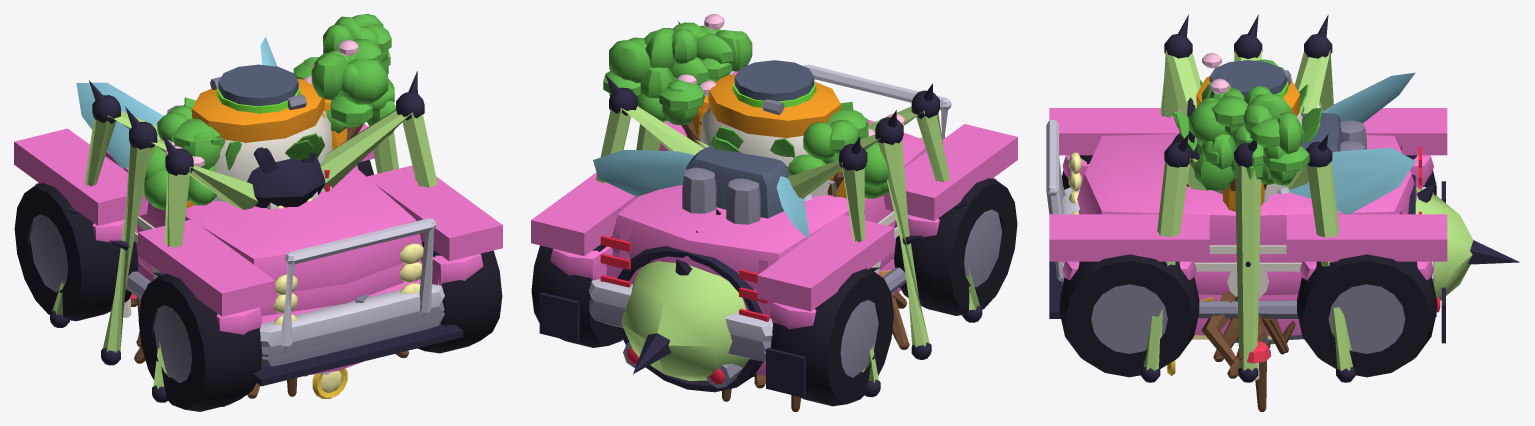
File: chimera_kit.glb
3 renders of one model, left to right at view 1: azimuth 30°, elevation 25°; view 2: azimuth 150°, elevation 25°; view 3: azimuth 270°, elevation 25°, orthographic. The views are drawn at different scales.
Parts seen in each view (by area): view 1: ck_legs_car_1_fenders, ck_legs_car_1_hull, ck_legs_car_1_wheelLF_tire, ck_legs_car_1_wheelLB_tire, ck_legs_car_1_wheelRF_tire, ck_legs_person_0_pelvis, ck_legs_car_1_bumpers, ck_body_sapling_2_leaves, ck_body_sapling_1_leaves, ck_legs_mite_2_legR2_seg, ck_body_sapling_0_leaves, ck_legs_car_1_bullbar (+26 smaller); view 2: ck_legs_car_1_fenders, ck_legs_car_1_hull, ck_body_mite_0_abdomen, ck_legs_car_1_wheelLF_tire, ck_legs_car_1_wheelLB_tire, ck_body_sapling_2_leaves, ck_legs_person_0_pelvis, ck_body_sapling_1_leaves, ck_body_sapling_0_leaves, ck_body_person_0_pack, ck_legs_car_1_flaps, ck_body_mite_0_wing1 (+30 smaller); view 3: ck_legs_car_1_fenders, ck_legs_car_1_hull, ck_legs_car_1_wheelRF_tire, ck_legs_car_1_wheelRB_tire, ck_body_sapling_0_leaves, ck_legs_mite_2_legR1_seg, ck_body_mite_0_wing1, ck_legs_car_1_wheelRF_hub, ck_legs_car_1_wheelRB_hub, ck_legs_mite_2_legR0_seg, ck_legs_mite_2_legR2_seg, ck_body_mite_0_abdomen (+28 smaller).
Boxes of the visible parts, box(x1,y1,x2,y2) form: ck_legs_car_1_fenders: box(14, 124, 502, 316); ck_legs_car_1_hull: box(105, 150, 422, 293); ck_legs_car_1_wheelLF_tire: box(138, 273, 262, 411); ck_legs_car_1_wheelLB_tire: box(14, 183, 138, 321); ck_legs_car_1_wheelRF_tire: box(417, 241, 502, 353); ck_legs_person_0_pelvis: box(191, 78, 324, 142); ck_legs_car_1_bumpers: box(260, 284, 444, 347); ck_body_sapling_2_leaves: box(157, 16, 378, 171); ck_body_sapling_1_leaves: box(184, 38, 388, 205); ck_legs_mite_2_legR2_seg: box(320, 109, 437, 188); ck_body_sapling_0_leaves: box(143, 14, 395, 210); ck_legs_car_1_bullbar: box(281, 218, 436, 349); ck_legs_car_1_fenders: box(531, 71, 1017, 311); ck_legs_car_1_hull: box(612, 119, 926, 288); ck_body_mite_0_abdomen: box(621, 261, 749, 380); ck_legs_car_1_wheelLF_tire: box(894, 178, 1017, 315); ck_legs_car_1_wheelLB_tire: box(770, 268, 893, 406); ck_body_sapling_2_leaves: box(644, 28, 867, 159); ck_legs_person_0_pelvis: box(708, 74, 840, 138); ck_body_sapling_1_leaves: box(637, 22, 883, 198); ck_body_sapling_0_leaves: box(603, 37, 889, 195); ck_body_person_0_pack: box(686, 145, 789, 218); ck_legs_car_1_flaps: box(539, 292, 805, 397); ck_body_mite_0_wing1: box(593, 150, 694, 197); ck_legs_car_1_fenders: box(1049, 108, 1447, 261); ck_legs_car_1_hull: box(1077, 133, 1417, 245); ck_legs_car_1_wheelRF_tire: box(1059, 254, 1199, 377); ck_legs_car_1_wheelRB_tire: box(1297, 254, 1436, 377); ck_body_sapling_0_leaves: box(1194, 105, 1309, 190); ck_legs_mite_2_legR1_seg: box(1235, 165, 1261, 370); ck_body_mite_0_wing1: box(1289, 147, 1415, 214); ck_legs_car_1_wheelRF_hub: box(1091, 284, 1167, 352); ck_legs_car_1_wheelRB_hub: box(1328, 284, 1405, 352); ck_legs_mite_2_legR0_seg: box(1285, 162, 1352, 370); ck_legs_mite_2_legR2_seg: box(1143, 158, 1207, 370); ck_body_mite_0_abdomen: box(1415, 187, 1473, 300).
Size of the model in its own units: 0.9921 by 1.1 by 1.36.
